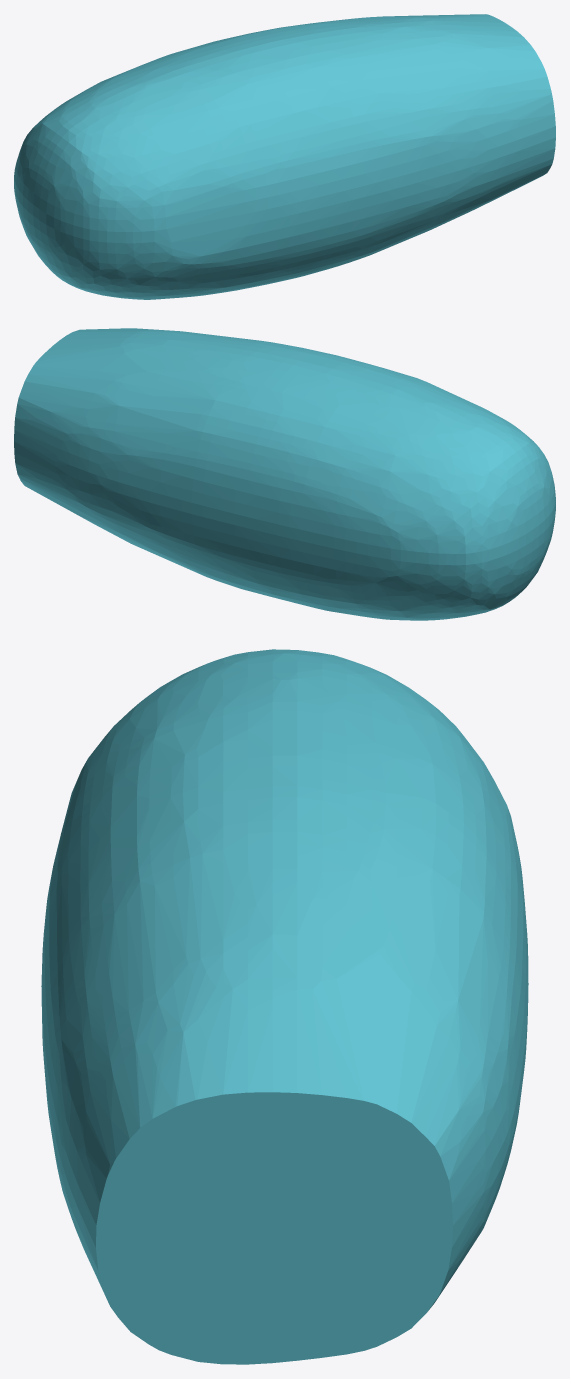
3 renders of one model, top to bottom at view 1: azimuth 30°, elevation 25°; view 2: azimuth 150°, elevation 25°; view 3: azimuth 270°, elevation 25°, orthographic. The views are drawn at different scales.
Bounding box in the file's own units: 0.0834 × 0.0372 × 0.0372.
